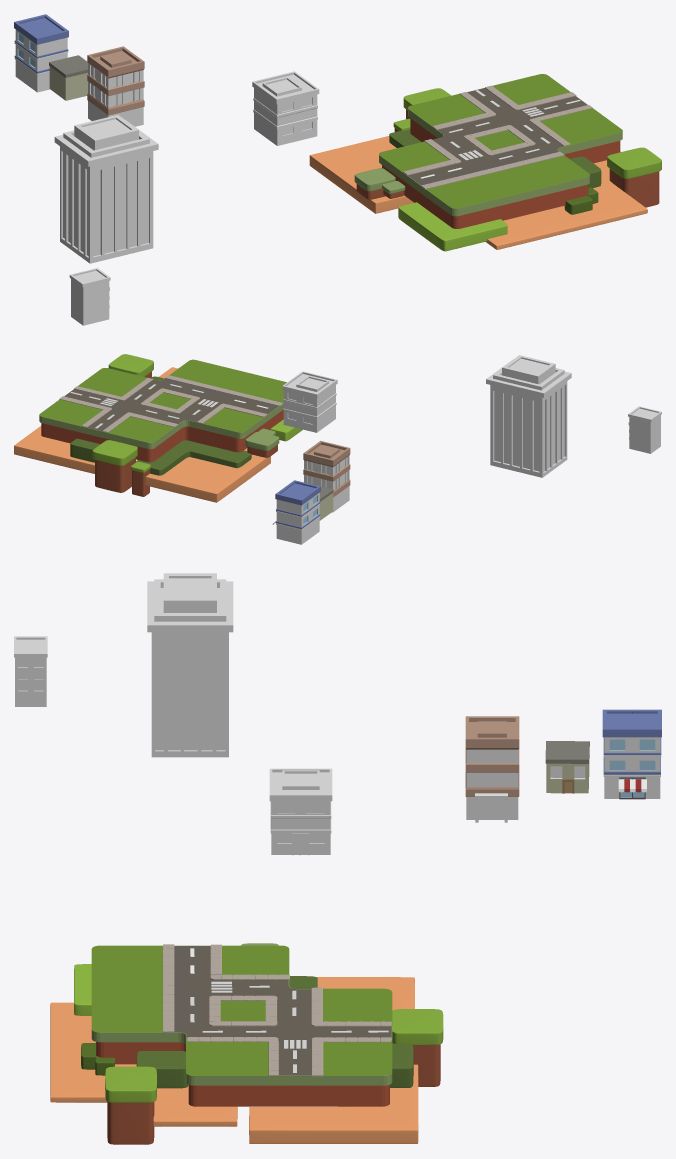
The model's file is porto.fbx.
3 renders of one model, top to bottom at view 1: azimuth 30°, elevation 25°; view 2: azimuth 150°, elevation 25°; view 3: azimuth 270°, elevation 25°, orthographic. The views are drawn at different scales.
Parts seen in each view (by area): view 1: chao1.001, Solos, Cube.004, Cube.003, Cube.007, bloco01.001, chao1.002, Cube, Cube.005, Cube.006, Plane.001; view 2: chao1.001, Solos, Cube.004, Cube.003, bloco01.001, chao1.002, Cube, Cube.007, Cube.005, Plane.001, Cube.006; view 3: chao1.001, Solos, Cube.004, bloco01.001, Cube.007, chao1.002, Cube.003, Cube, Cube.006, Cube.005, Plane.001.
Part boxes in pixels (left/top/right/bottom): chao1.001: left=379, top=74, right=622, bottom=216; Solos: left=309, top=88, right=661, bottom=251; Cube.004: left=54, top=115, right=158, bottom=263; Cube.003: left=252, top=71, right=319, bottom=145; Cube.007: left=87, top=46, right=144, bottom=126; bloco01.001: left=403, top=85, right=592, bottom=189; chao1.002: left=382, top=118, right=620, bottom=228; Cube: left=14, top=14, right=68, bottom=92; Cube.005: left=69, top=268, right=110, bottom=325; Cube.006: left=49, top=55, right=87, bottom=100; Plane.001: left=420, top=90, right=580, bottom=178; chao1.001: left=39, top=359, right=286, bottom=449; Solos: left=14, top=354, right=302, bottom=502; Cube.004: left=486, top=355, right=571, bottom=477; Cube.003: left=282, top=371, right=337, bottom=432; bloco01.001: left=59, top=375, right=283, bottom=432; chao1.002: left=41, top=410, right=283, bottom=462; Cube: left=275, top=480, right=320, bottom=544; Cube.007: left=303, top=440, right=350, bottom=512; Cube.005: left=628, top=406, right=661, bottom=453; Plane.001: left=70, top=384, right=268, bottom=428; Cube.006: left=309, top=483, right=333, bottom=520; chao1.001: left=91, top=945, right=392, bottom=1085; Solos: left=50, top=943, right=443, bottom=1144; Cube.004: left=147, top=573, right=233, bottom=757; bloco01.001: left=163, top=944, right=391, bottom=1076; Cube.007: left=465, top=716, right=519, bottom=822; chao1.002: left=96, top=1042, right=389, bottom=1106; Cube.003: left=269, top=768, right=332, bottom=855; Cube: left=602, top=709, right=661, bottom=799; Cube.006: left=545, top=741, right=589, bottom=793; Cube.005: left=14, top=636, right=47, bottom=706; Plane.001: left=190, top=948, right=388, bottom=1072.
Bounding box in the file's own units: 1545 × 437 × 1076.
